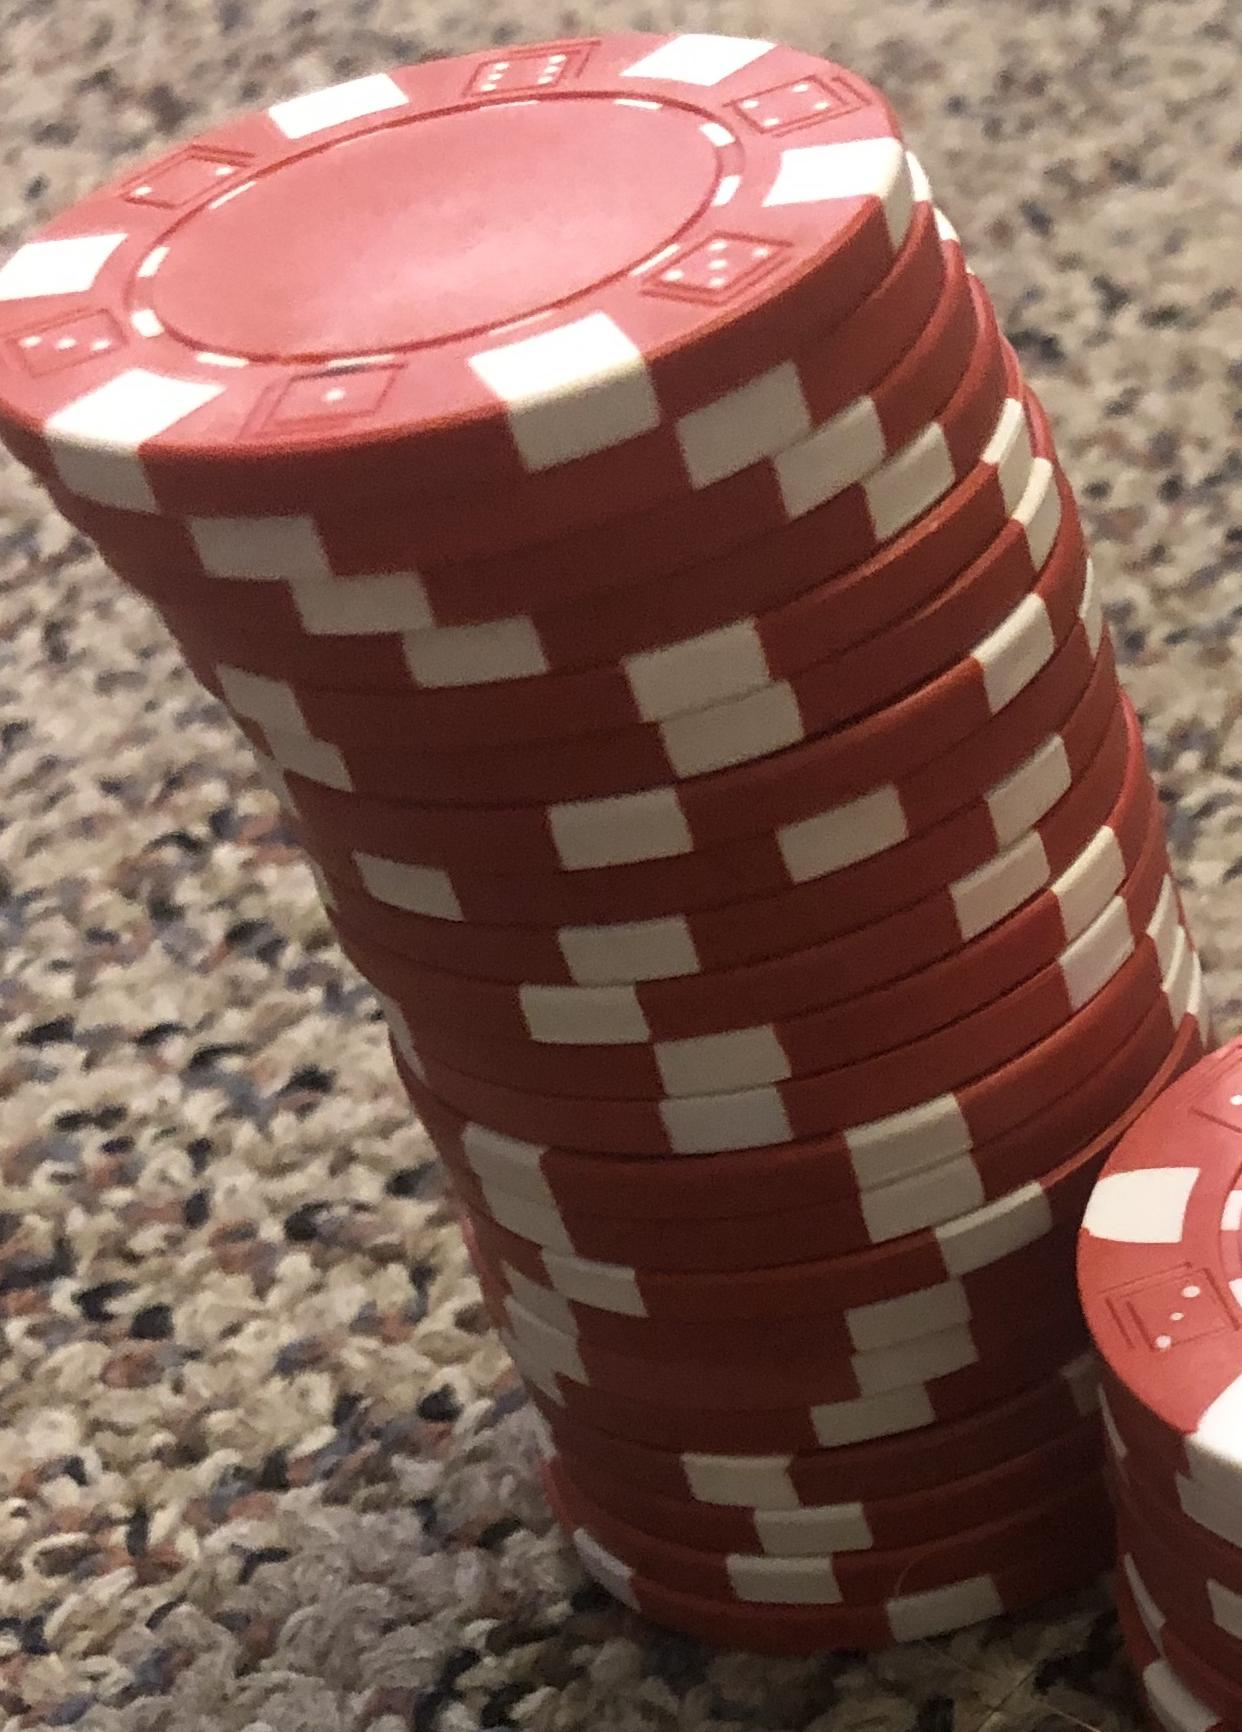Chip: (1, 1, 1242, 1732)
